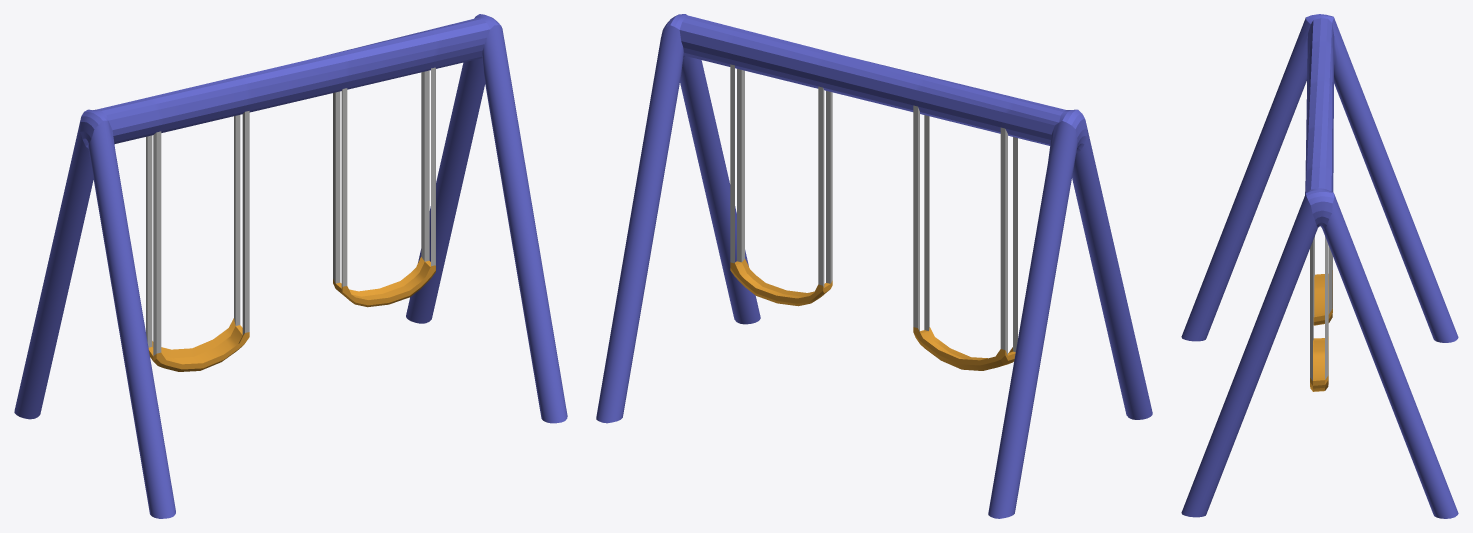
Rendered from Swing.fbx.
3 renders of one model, left to right at view 1: azimuth 30°, elevation 25°; view 2: azimuth 150°, elevation 25°; view 3: azimuth 270°, elevation 25°, orthographic. The views are drawn at different scales.
Visible parts, largest first — view 1: pCylinder5; view 2: pCylinder5; view 3: pCylinder5.
Part boxes in pixels (box(x1,y1,x2,y2)): pCylinder5: box(14, 14, 567, 518); pCylinder5: box(596, 14, 1152, 518); pCylinder5: box(1181, 14, 1458, 518).
Bounding box in the file's own units: 15.78 × 12.81 × 9.9.
